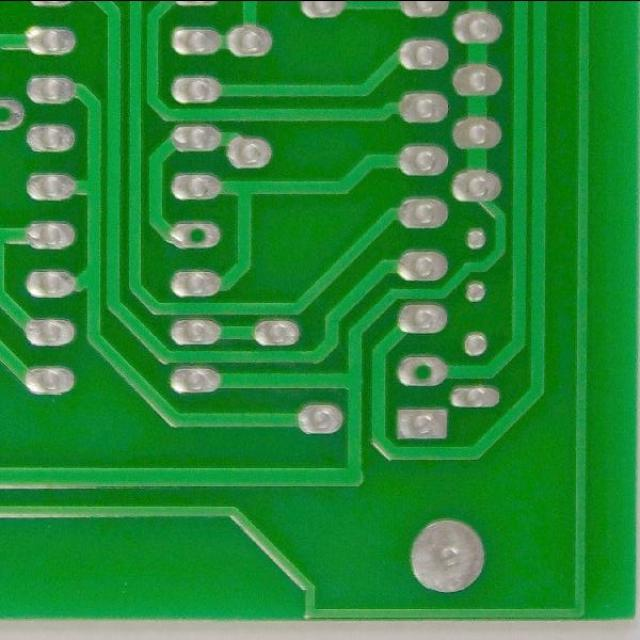Missing_Hole: (392, 351, 452, 391), (169, 218, 225, 252), (0, 94, 29, 136)
